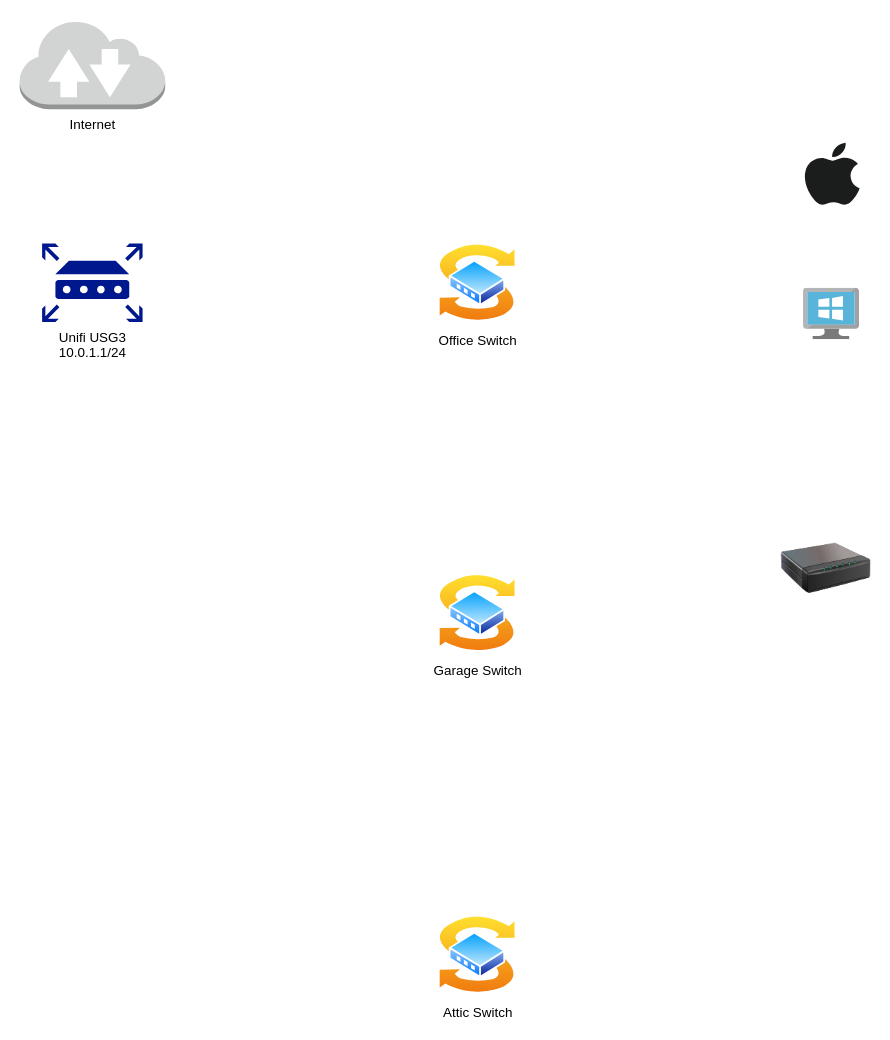
Image size: 890x1040. Some labels were removed from this diagram. Here are the shapes that lost their labels. From the top down, the centre of each, then its label:
At point 831,173: "Work Laptop".
At point 831,313: "Desktop".
